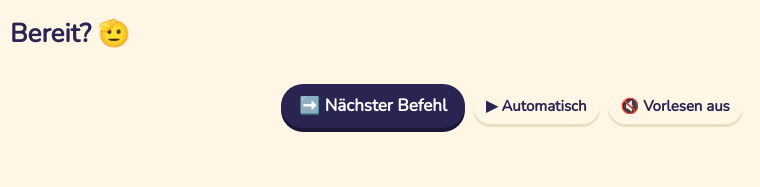
Test: commands › ohne Kommando bei Zufall ab 0.65
Click the button "➡️ Nächster Befehl": [373, 106] box [281,84,465,128]
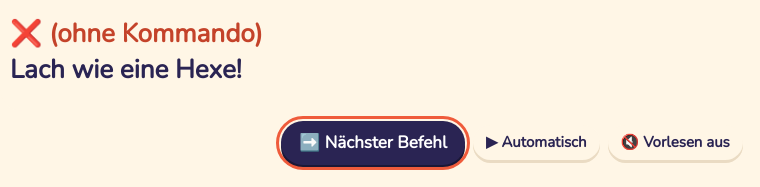
Check: the text "❌ (ohne Kommando)" is shown, box [10,16,263,51]
